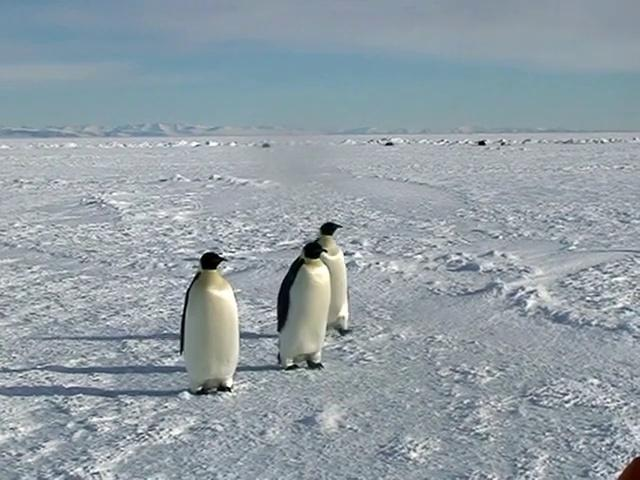animal: (319, 222, 352, 335)
